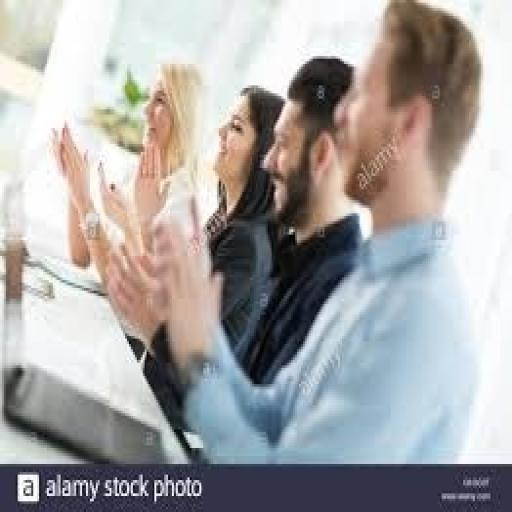clapping: (104, 0, 486, 464)
